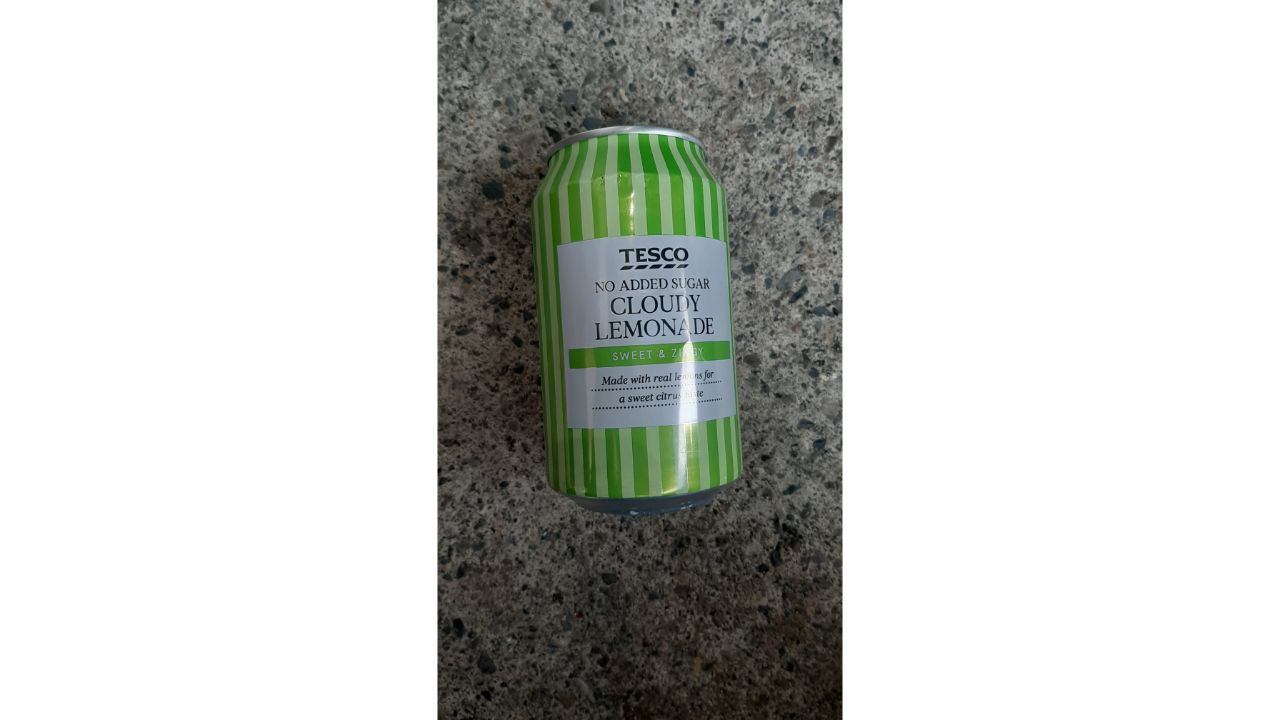Can: (529, 123, 744, 520)
